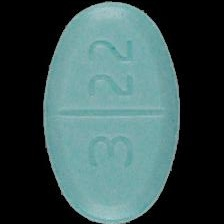43063-122: (0, 0, 224, 224)
